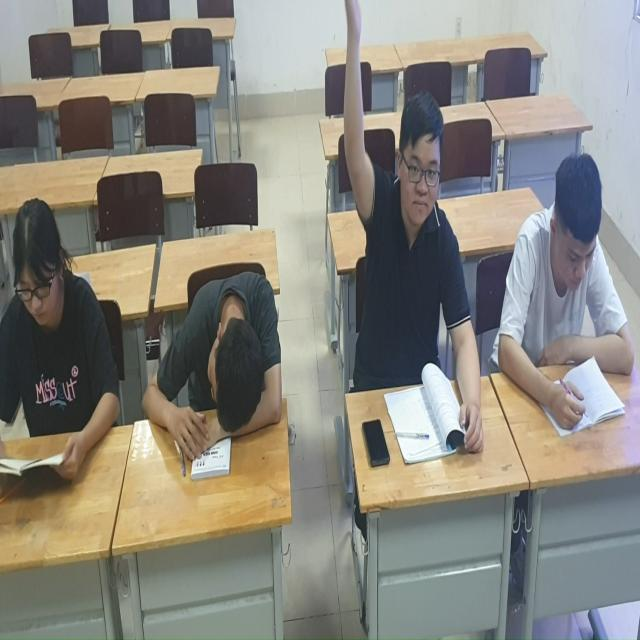raise_hand: (323, 1, 486, 454)
read: (496, 116, 634, 427), (1, 160, 114, 518)
sleep: (139, 232, 283, 473)
